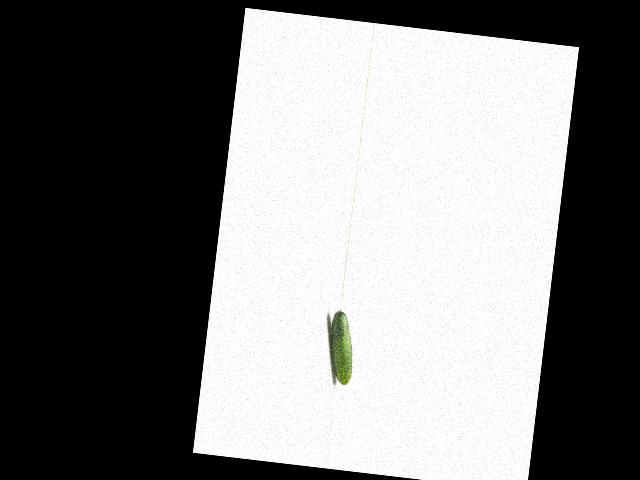cucumber: (324, 308, 358, 385)
